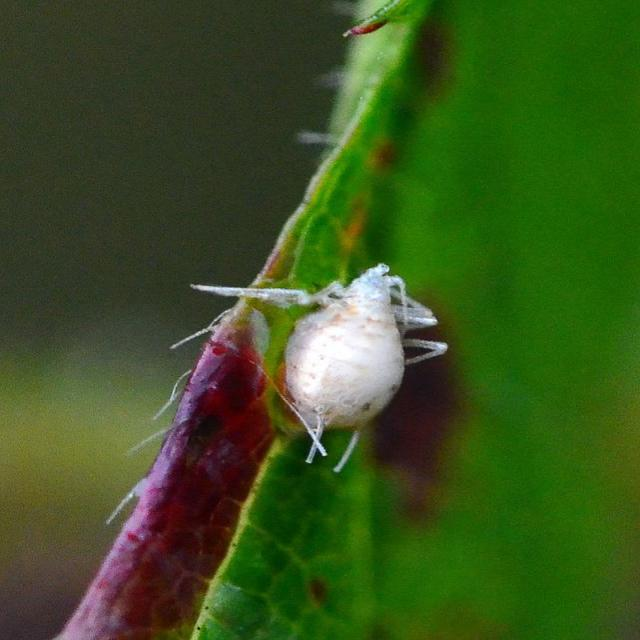Aphids: (253, 258, 434, 457)
